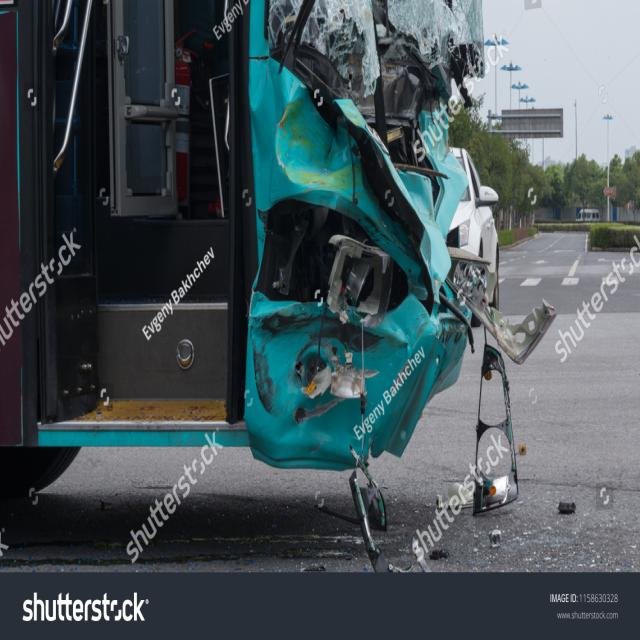Accident: (2, 5, 570, 559)
